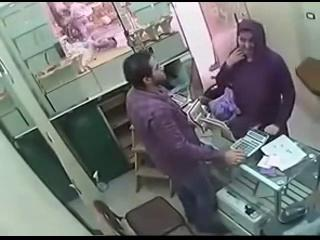Normal: (123, 52, 247, 234), (214, 18, 296, 139), (93, 196, 195, 236), (230, 128, 270, 158)
